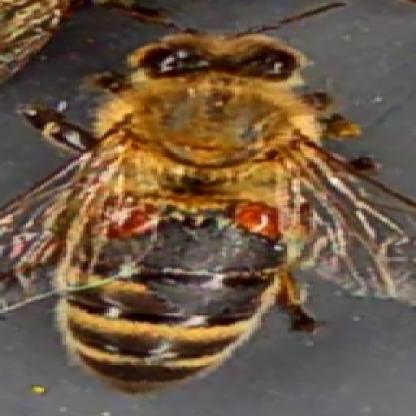bee: (88, 32, 322, 390), (0, 0, 76, 65)
vaoora: (108, 205, 156, 235), (236, 201, 277, 235)
